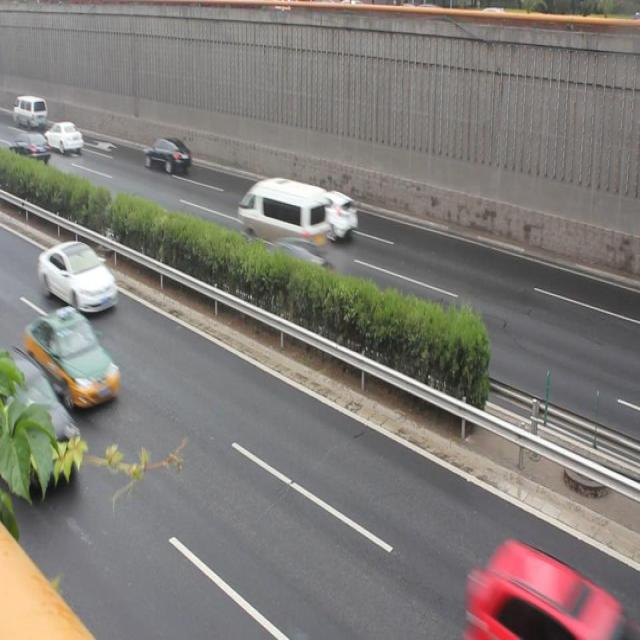car: (472, 538, 616, 640), (1, 352, 75, 489), (27, 307, 118, 409), (39, 238, 117, 314), (252, 238, 330, 298), (294, 185, 358, 242), (144, 135, 189, 174)
truck: (238, 175, 327, 252)
